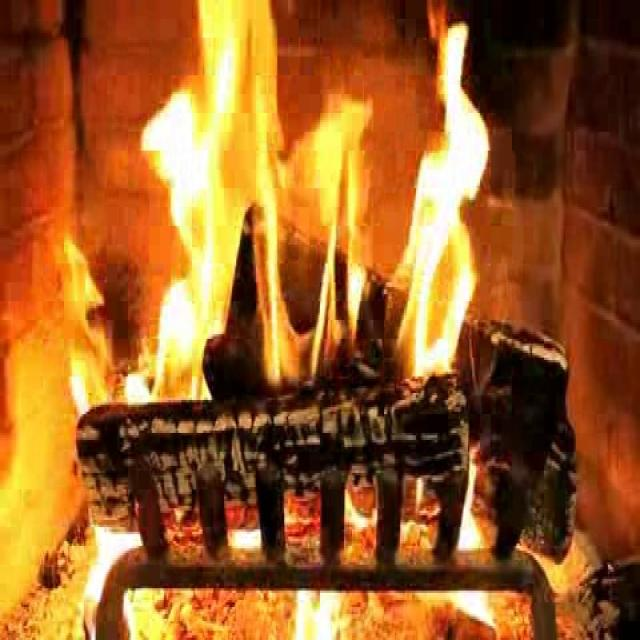fire: (131, 6, 486, 410)
